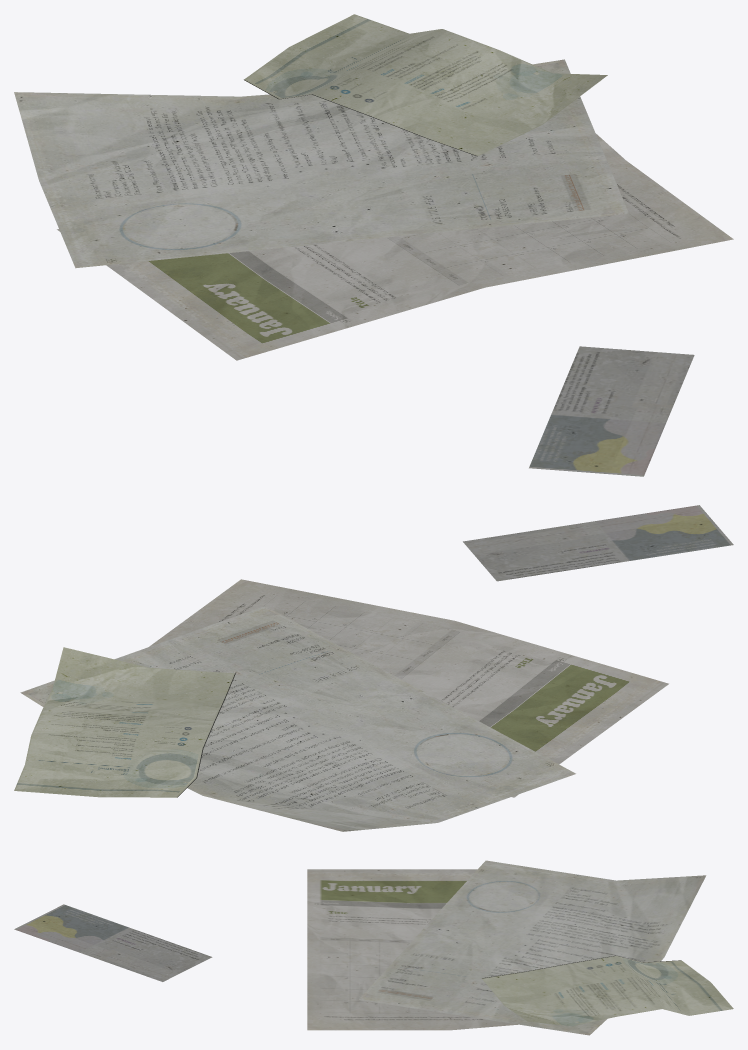
The model's file is SM_Debris_Paper_Set4.fbx.
3 views of the same model, one above another, from view 1: azimuth 30°, elevation 25°; view 2: azimuth 150°, elevation 25°; view 3: azimuth 270°, elevation 25° (orthographic). The views are drawn at different scales.
Parts seen in each view (by area): view 1: SM_Debris_Paper_Set4_LOD0; view 2: SM_Debris_Paper_Set4_LOD0; view 3: SM_Debris_Paper_Set4_LOD0.
Part boxes in pixels (left/top/right/bottom): SM_Debris_Paper_Set4_LOD0: left=14, top=14, right=733, bottom=476; SM_Debris_Paper_Set4_LOD0: left=14, top=505, right=733, bottom=831; SM_Debris_Paper_Set4_LOD0: left=14, top=860, right=733, bottom=1035.
Bounding box in the file's own units: 48.89 × 80.97 × 2.75.
Materials: 1 (1 with a texture image).
